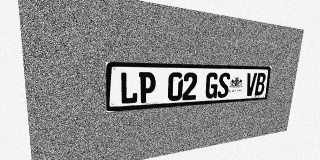0: (167, 72, 183, 101)
2: (182, 72, 198, 100)
B: (254, 73, 266, 96)
G: (205, 72, 219, 99)
L: (120, 72, 138, 105)
P: (138, 72, 156, 103)
S: (217, 73, 231, 98)
V: (245, 73, 257, 96)
